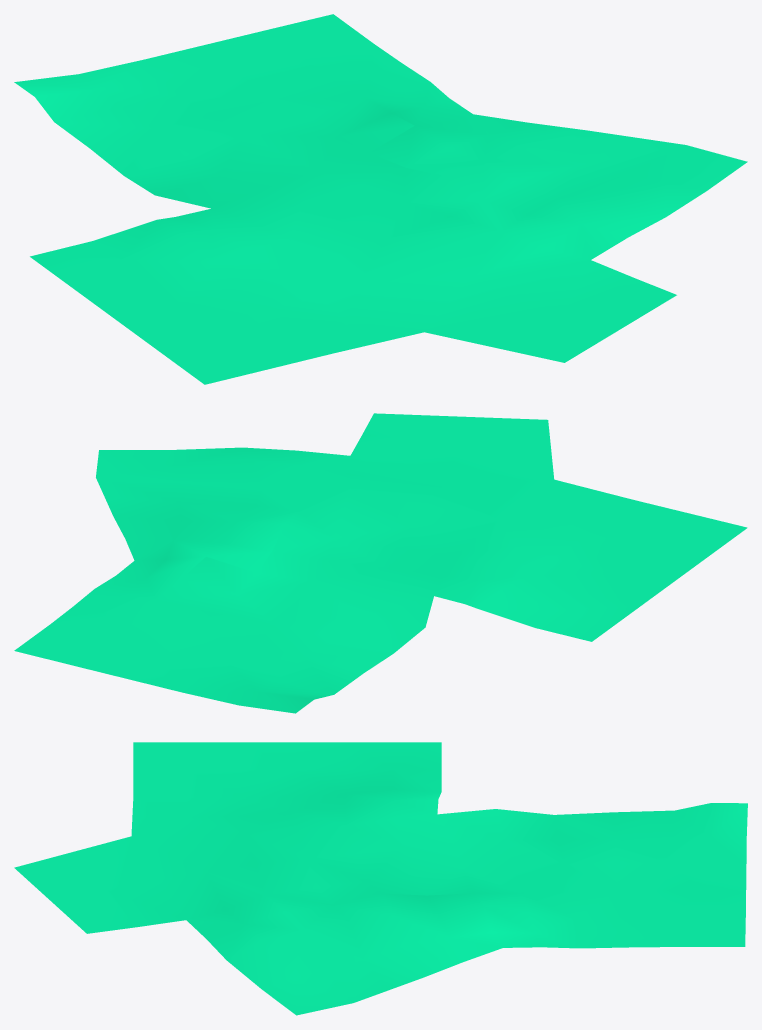
File: InfernoFLoor.fbx
3 views of the same model, one above another, from view 1: azimuth 30°, elevation 25°; view 2: azimuth 150°, elevation 25°; view 3: azimuth 270°, elevation 25° (orthographic). The views are drawn at different scales.
Parts seen in each view (by area): view 1: node000_world_lr0_agg69_22_inferno_soil_trail_01.021; view 2: node000_world_lr0_agg69_22_inferno_soil_trail_01.021; view 3: node000_world_lr0_agg69_22_inferno_soil_trail_01.021.
Boxes of the visible parts, x1,y1,x2,y2 form: node000_world_lr0_agg69_22_inferno_soil_trail_01.021: (14, 14, 747, 384); node000_world_lr0_agg69_22_inferno_soil_trail_01.021: (14, 413, 747, 713); node000_world_lr0_agg69_22_inferno_soil_trail_01.021: (14, 742, 747, 1015).
Bounding box in the file's own units: 2123 × 59.93 × 2412.
